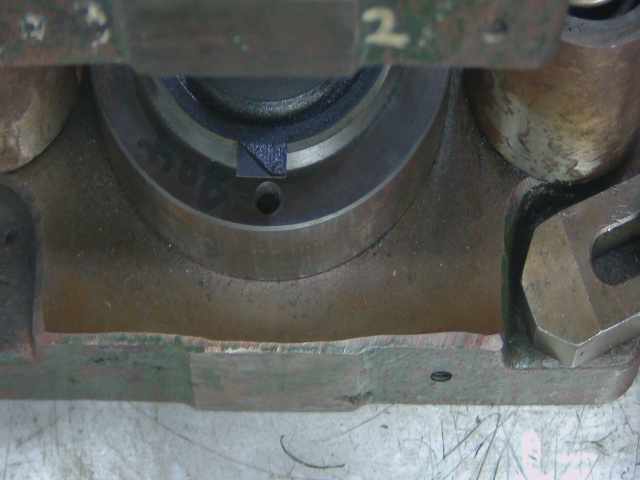HX3: (235, 133, 298, 189)
